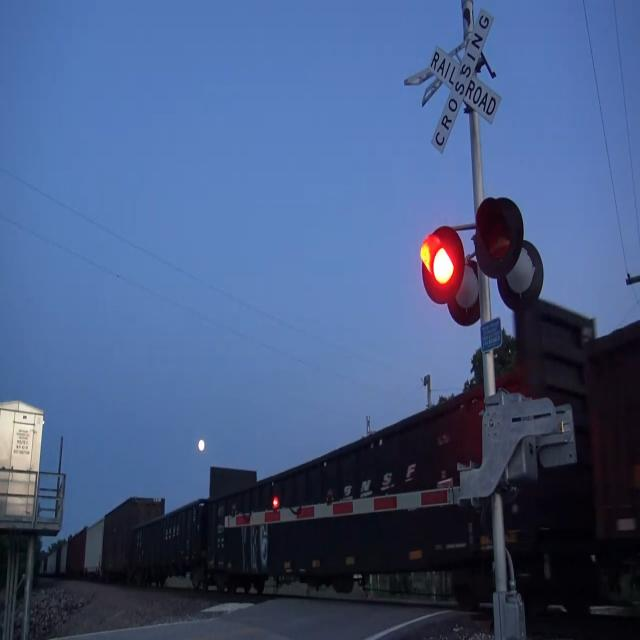gondola: (204, 264, 598, 618), (126, 456, 253, 598)
